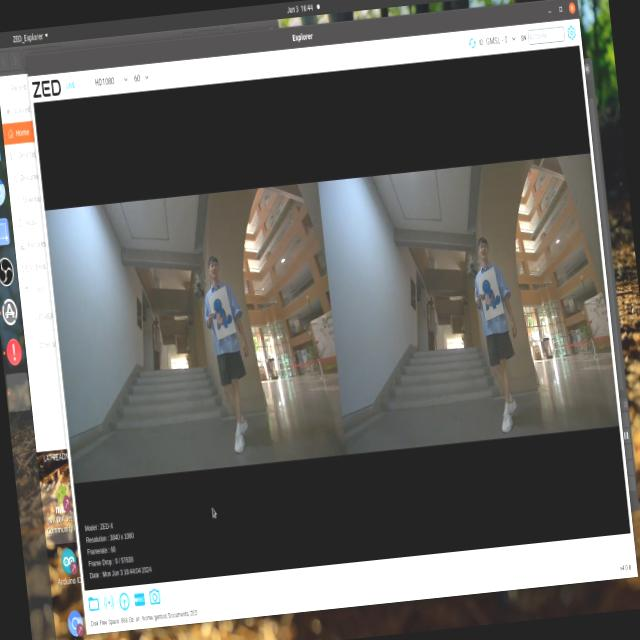blue: (474, 272, 512, 331), (210, 288, 232, 330)
